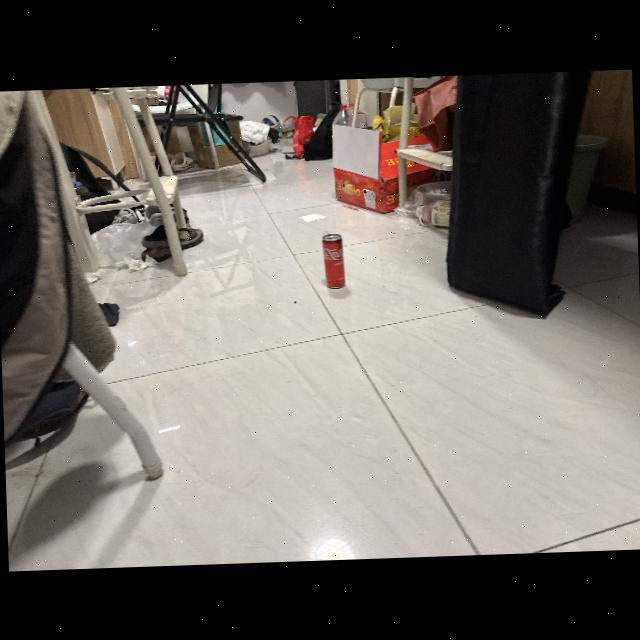Cola: (317, 231, 348, 292)
